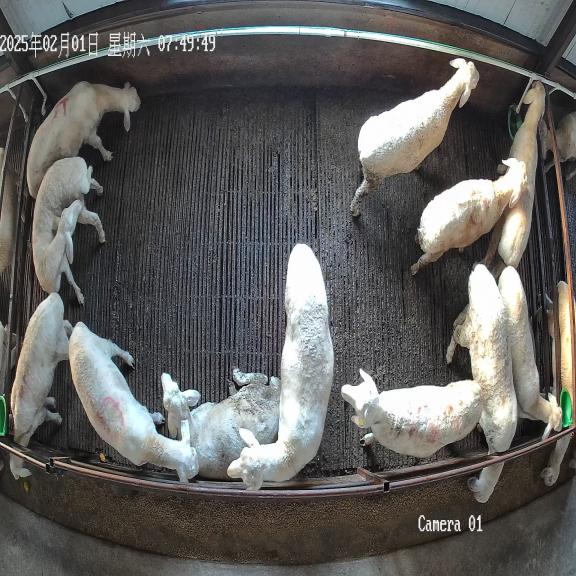eating: (446, 264, 518, 503)
lying: (161, 368, 280, 480)
stand: (227, 244, 333, 490), (69, 322, 198, 482), (351, 58, 479, 216), (411, 158, 527, 274), (27, 82, 140, 198), (482, 81, 545, 275), (342, 370, 482, 457), (9, 292, 72, 480), (498, 266, 561, 440), (32, 156, 105, 304)
